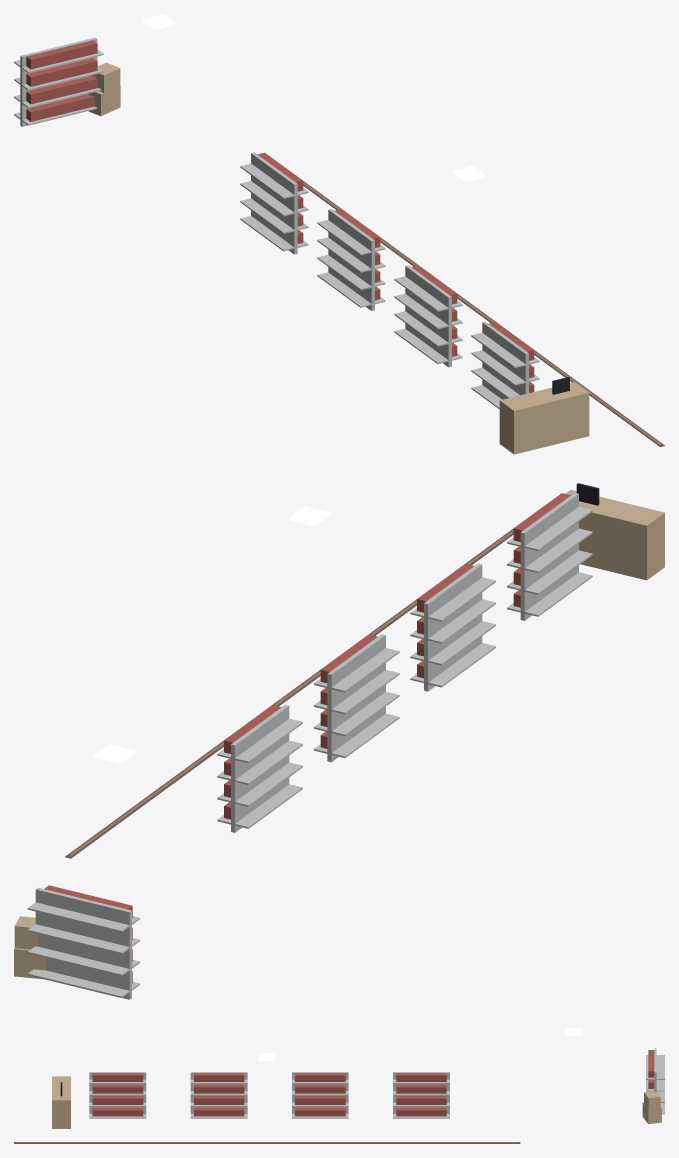
File: fine-s0.glb
3 views of the same model, one above another, from view 1: azimuth 30°, elevation 25°; view 2: azimuth 150°, elevation 25°; view 3: azimuth 270°, elevation 25° (orthographic). The views are drawn at different scales.
Parts seen in each view (by area): view 1: shelving.000, shop-counter.000, shelf.002, shelf.000, shelf.001, shelf.003, soft-s0, cardboard-box.000; view 2: shelving.000, shelf.003, shelf.001, shelf.000, shelf.002, shop-counter.000, soft-s0, cardboard-box.000; view 3: shelf.002, shelf.003, shelf.000, shelf.001, soft-s0, shop-counter.000, shelving.000, cardboard-box.000.
Part boxes in pixels (bbox=[...]): shelving.000: bbox=[14, 37, 103, 126]; shop-counter.000: bbox=[499, 377, 589, 454]; shelf.002: bbox=[394, 265, 462, 367]; shelf.000: bbox=[240, 152, 308, 254]; shelf.001: bbox=[317, 209, 385, 310]; shelf.003: bbox=[471, 321, 539, 409]; soft-s0: bbox=[303, 181, 664, 446]; cardboard-box.000: bbox=[88, 62, 120, 116]; shelving.000: bbox=[27, 885, 139, 999]; shelf.003: bbox=[507, 493, 592, 620]; shelf.001: bbox=[314, 634, 399, 762]; shelf.000: bbox=[217, 704, 302, 832]; shelf.002: bbox=[410, 563, 495, 691]; shop-counter.000: bbox=[565, 483, 664, 580]; soft-s0: bbox=[65, 506, 543, 858]; cardboard-box.000: bbox=[14, 916, 46, 979]; shelf.002: bbox=[190, 1072, 247, 1118]; shelf.003: bbox=[89, 1072, 146, 1118]; shelf.000: bbox=[393, 1072, 449, 1118]; shelf.001: bbox=[292, 1072, 348, 1118]; soft-s0: bbox=[14, 1142, 520, 1143]; shop-counter.000: bbox=[52, 1076, 70, 1128]; shelving.000: bbox=[646, 1048, 664, 1114]; cardboard-box.000: bbox=[642, 1091, 661, 1124].
Size of the model in its own units: 3.92 by 3.03 by 20.59.
